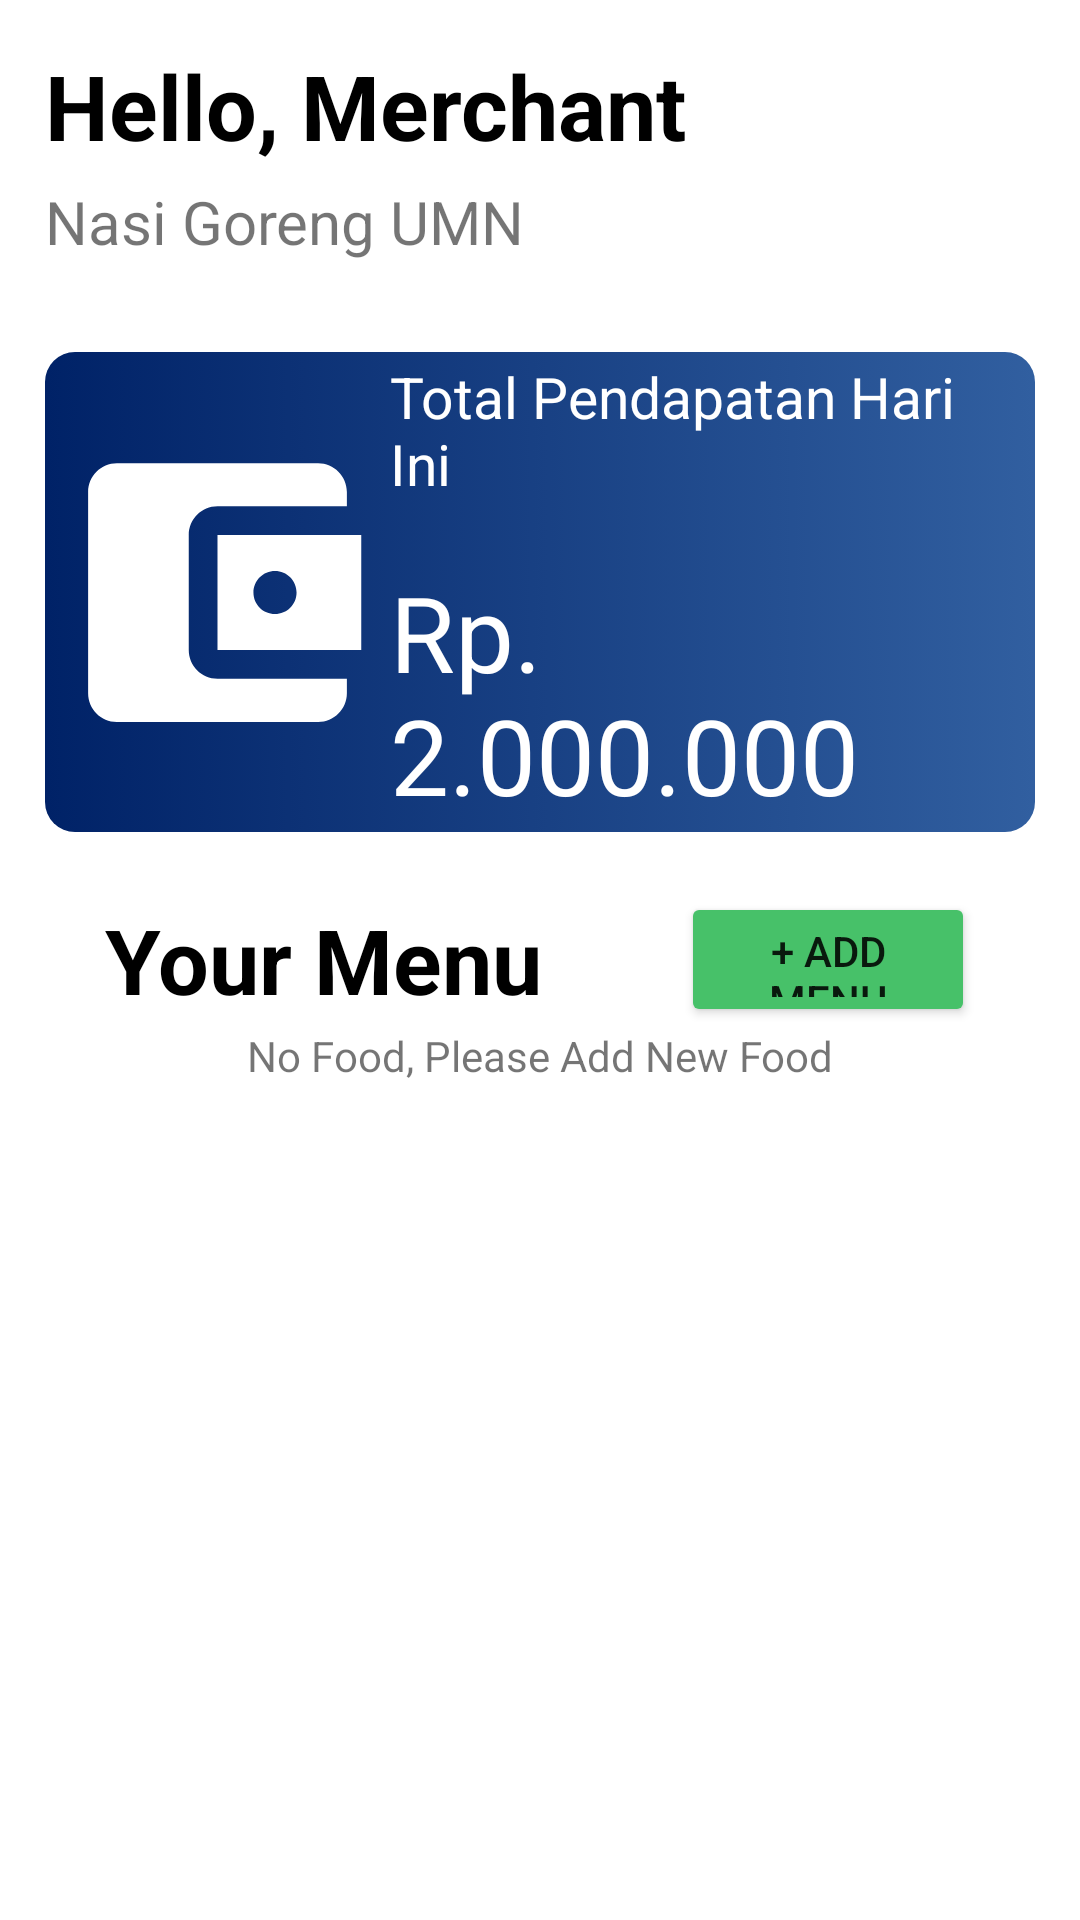

Icons on this 1080px×1920px Android screen, each with the point to tap as point (x, y):
account balance wallet: point (217, 592)
